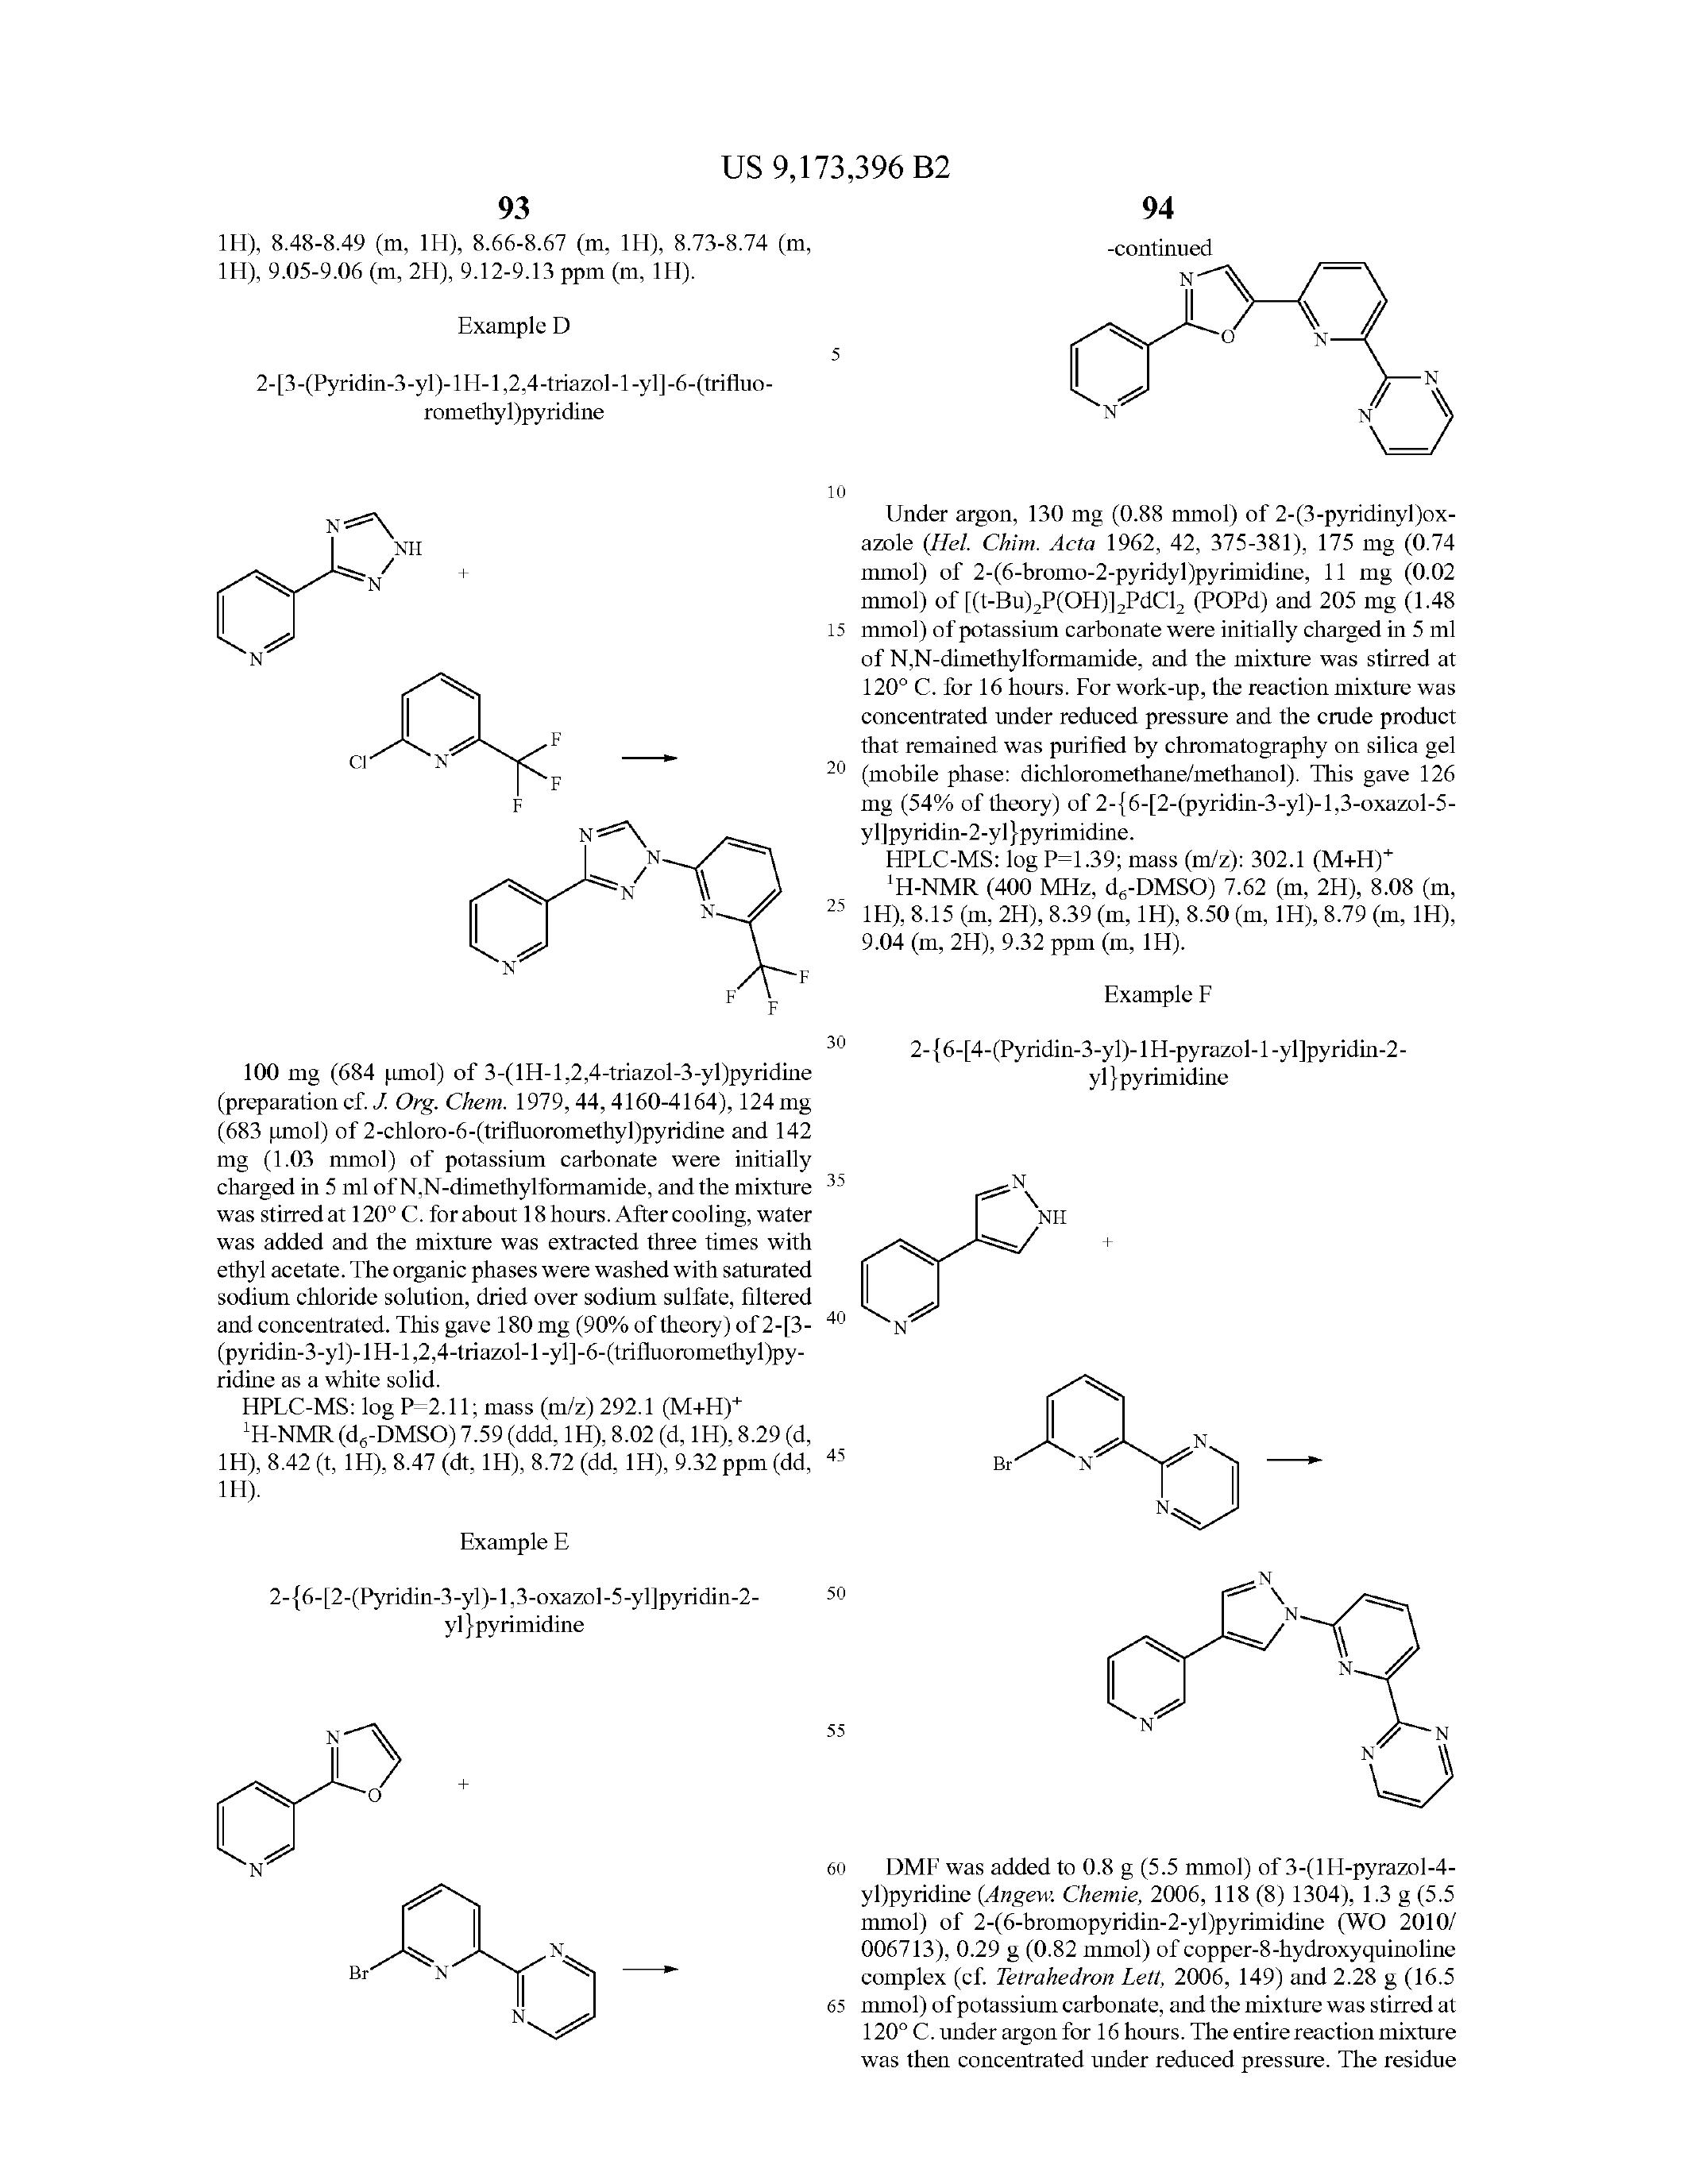reactions: (28, 447, 819, 1019)
